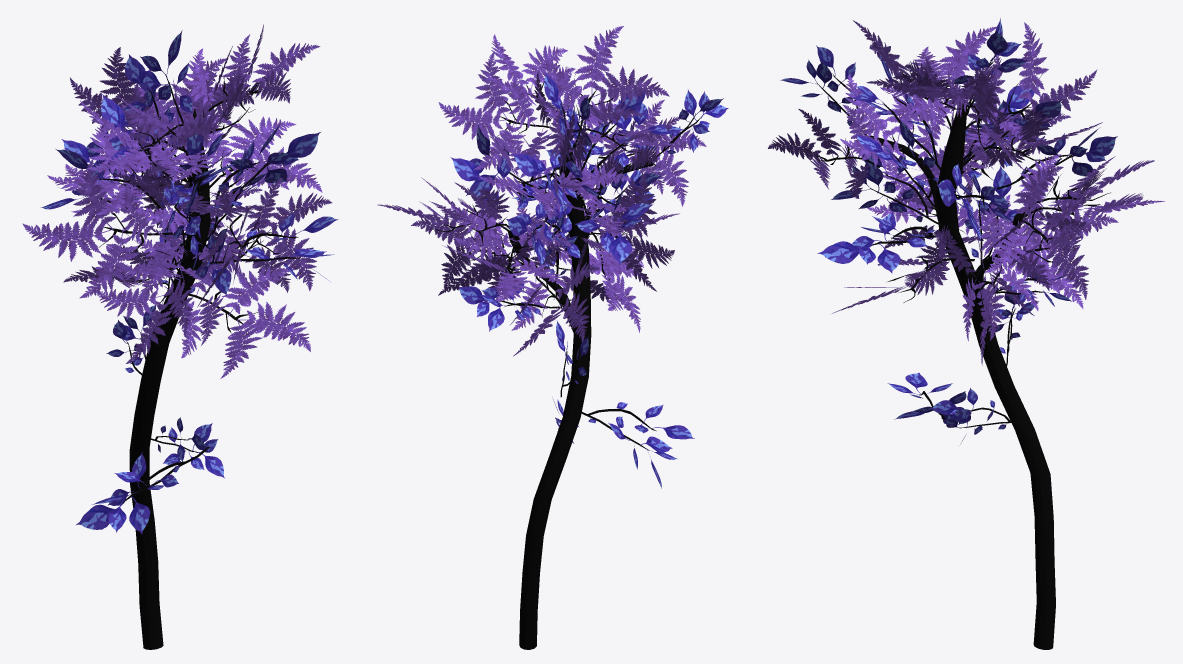
Rendered from purpletree12.fbx.
The picture shows the model from 3 angles, left to right: view 1: azimuth 30°, elevation 25°; view 2: azimuth 150°, elevation 25°; view 3: azimuth 270°, elevation 25°; orthographic projection. The views are drawn at different scales.
Parts seen in each view (by area): view 1: pCylinder1064; view 2: pCylinder1064; view 3: pCylinder1064.
Part boxes in pixels (bbox=[...]): pCylinder1064: bbox=[22, 24, 338, 649]; pCylinder1064: bbox=[377, 26, 728, 649]; pCylinder1064: bbox=[768, 18, 1164, 649].
Size of the model in its own units: 22.64 by 44.18 by 25.78.
